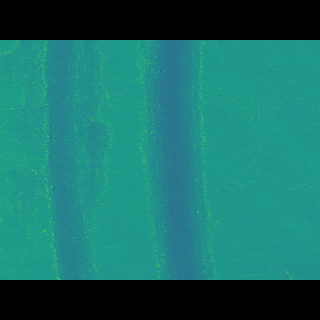Loch: (140, 68, 216, 251), (41, 69, 105, 251)
